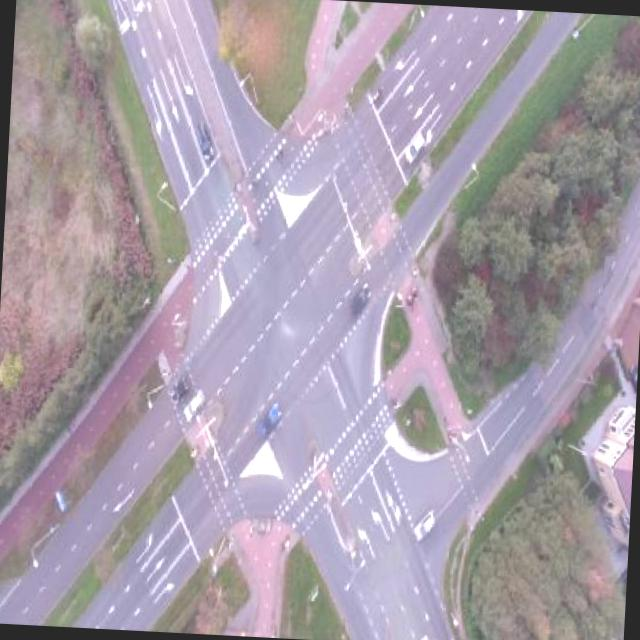car: (252, 402, 286, 438), (402, 128, 430, 168), (178, 392, 209, 426), (344, 280, 372, 316), (412, 508, 438, 546)
